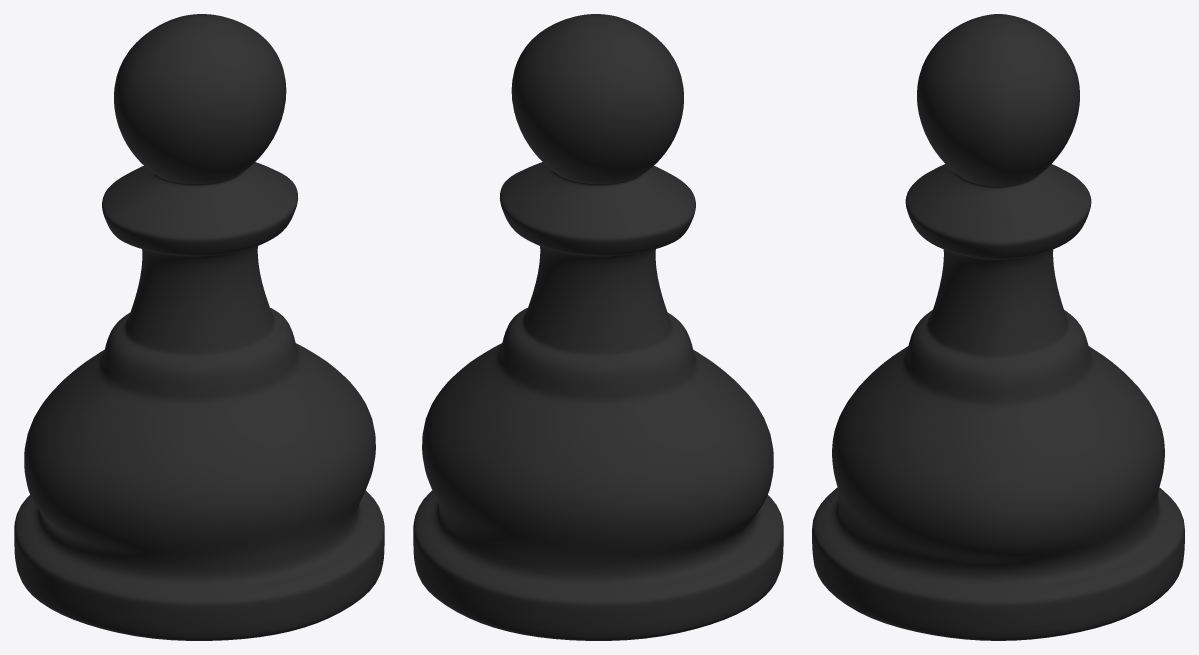
Rendered from Pawn.obj.
The picture shows the model from 3 angles, left to right: view 1: azimuth 30°, elevation 25°; view 2: azimuth 150°, elevation 25°; view 3: azimuth 270°, elevation 25°; orthographic projection.
Visible parts, largest first — view 1: Peasant; view 2: Peasant; view 3: Peasant.
Boxes of the visible parts, x1,y1,x2,y2 form: Peasant: (14,14,384,640); Peasant: (413,14,783,640); Peasant: (812,14,1184,640).
Bounding box in the file's own units: 0.5538 × 0.889 × 0.5538.
Materials: 1 (1 with a texture image).
